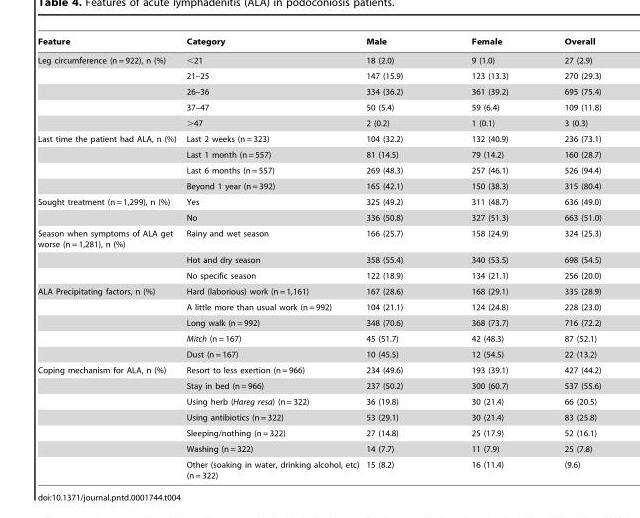table: (37, 36, 600, 479)
table column: (180, 36, 361, 479), (37, 36, 180, 479), (436, 36, 535, 479), (361, 36, 436, 479), (535, 36, 600, 479)
table column header: (37, 36, 600, 50)
table row: (37, 225, 600, 251), (37, 456, 600, 479), (37, 50, 600, 67), (37, 67, 600, 83), (37, 83, 600, 99), (37, 99, 600, 115), (37, 130, 600, 146), (37, 146, 600, 162), (37, 162, 600, 178), (37, 193, 600, 209), (37, 209, 600, 225), (37, 251, 600, 267), (37, 267, 600, 283), (37, 283, 600, 299), (37, 314, 600, 330), (37, 330, 600, 346), (37, 346, 600, 362), (37, 377, 600, 393), (37, 393, 600, 409), (37, 409, 600, 425), (37, 440, 600, 456), (37, 115, 600, 130), (37, 178, 600, 193), (37, 299, 600, 314), (37, 362, 600, 377), (37, 425, 600, 440), (37, 36, 600, 50)
table spanning cell: (37, 362, 180, 479), (37, 50, 180, 130), (37, 283, 180, 362), (37, 130, 180, 193), (37, 225, 180, 283), (37, 193, 180, 225)
